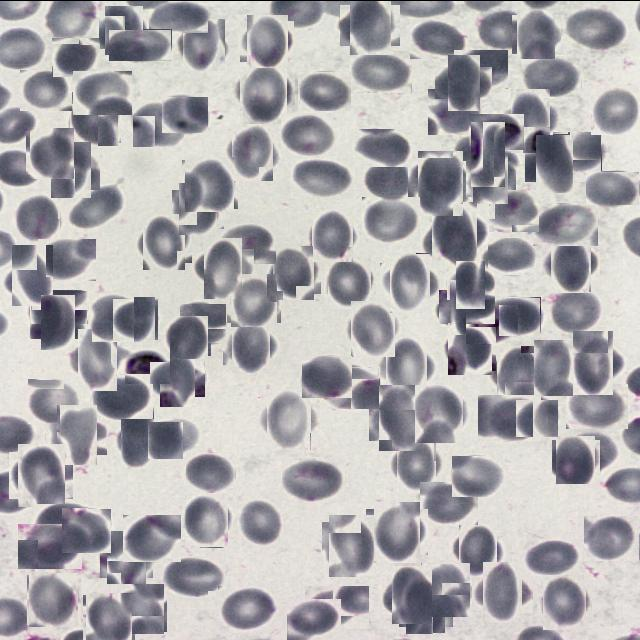red blood cell: (427, 206, 483, 262), (374, 389, 430, 445), (413, 155, 468, 211), (236, 64, 291, 119), (13, 447, 68, 502), (18, 522, 83, 568), (282, 456, 346, 502), (90, 373, 154, 419), (326, 518, 380, 572), (370, 504, 424, 558), (478, 394, 541, 440), (412, 387, 466, 440), (305, 584, 370, 628), (183, 157, 236, 210), (533, 202, 598, 245), (564, 6, 626, 51), (566, 383, 628, 428), (218, 585, 278, 631), (262, 392, 315, 444), (123, 514, 181, 561), (68, 92, 120, 144), (566, 336, 618, 388), (28, 573, 80, 625), (504, 94, 556, 146), (420, 563, 472, 615), (163, 554, 227, 596), (73, 183, 130, 230), (362, 196, 420, 242), (384, 257, 436, 308), (349, 50, 412, 92), (6, 250, 58, 300), (73, 70, 132, 114), (584, 514, 640, 560), (521, 54, 582, 96), (381, 341, 432, 391), (348, 302, 398, 353), (73, 334, 124, 384), (52, 408, 102, 459), (291, 157, 353, 198), (548, 287, 603, 333), (478, 567, 528, 617), (182, 495, 232, 545), (228, 127, 278, 177), (228, 274, 278, 324), (492, 348, 542, 398), (198, 242, 248, 292), (590, 84, 640, 134), (464, 128, 514, 178), (345, 0, 396, 49), (420, 481, 478, 524), (428, 88, 482, 134), (28, 378, 83, 423), (281, 112, 338, 155), (546, 238, 595, 288), (540, 577, 589, 627), (35, 504, 88, 550), (38, 238, 96, 280), (139, 217, 188, 266), (386, 570, 436, 618), (133, 100, 185, 146), (217, 223, 276, 263), (446, 323, 494, 372), (324, 366, 380, 408), (85, 592, 134, 640), (410, 18, 468, 58), (393, 439, 441, 487), (326, 258, 374, 306), (237, 498, 285, 546), (270, 248, 318, 296), (243, 16, 291, 64), (180, 20, 228, 68), (15, 194, 63, 242), (118, 584, 166, 632), (28, 128, 76, 176), (530, 342, 578, 390), (530, 138, 578, 186), (402, 582, 449, 630), (48, 146, 96, 193), (287, 598, 341, 639), (308, 212, 356, 258), (354, 128, 412, 166), (489, 188, 540, 231), (362, 158, 414, 200), (524, 538, 581, 576), (298, 70, 352, 110), (62, 508, 111, 552), (20, 69, 72, 110), (455, 526, 501, 572), (228, 322, 274, 368), (104, 534, 150, 580), (175, 186, 221, 232), (454, 49, 508, 88), (302, 355, 352, 397), (452, 455, 503, 496), (109, 28, 172, 61), (553, 130, 602, 172), (186, 451, 236, 492), (155, 356, 200, 401), (36, 298, 80, 344), (92, 293, 134, 341), (177, 302, 227, 342), (444, 284, 489, 328), (442, 59, 486, 104), (52, 36, 101, 76), (568, 430, 618, 469), (31, 289, 88, 323), (102, 7, 146, 51), (118, 421, 162, 465), (514, 12, 558, 56), (554, 437, 598, 481), (469, 156, 512, 200), (147, 1, 208, 32), (114, 297, 157, 340), (586, 170, 640, 204), (477, 14, 532, 46), (488, 237, 534, 274), (168, 316, 210, 356), (162, 96, 208, 132), (499, 296, 541, 335), (516, 398, 559, 436), (452, 264, 491, 304), (147, 421, 183, 458)
trophozoite: (466, 304, 518, 343), (469, 113, 524, 149), (125, 349, 170, 383)
